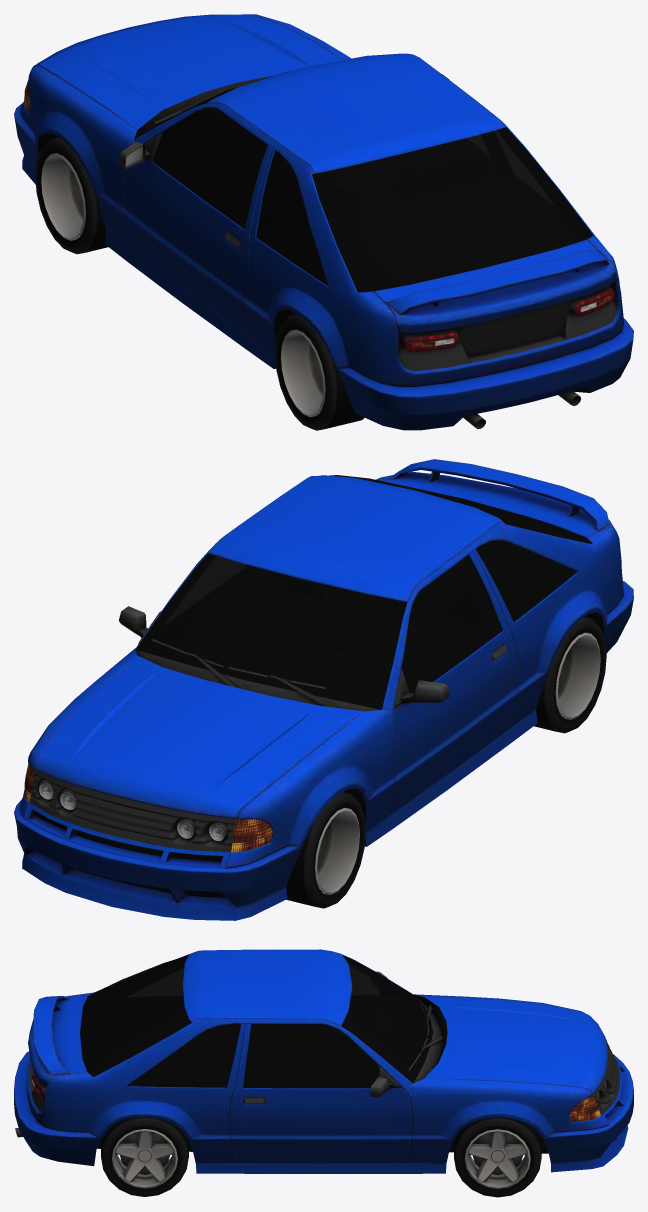
The model's file is coupe.glb.
The picture shows the model from 3 angles, top to bottom: view 1: azimuth 30°, elevation 25°; view 2: azimuth 150°, elevation 25°; view 3: azimuth 270°, elevation 25°; orthographic projection. The views are drawn at different scales.
Visible parts, largest first — view 1: Coupe_Body, wheel_1, wheel_3; view 2: Coupe_Body, wheel_3, wheel_1; view 3: Coupe_Body, wheel_2, wheel_0.
Boxes of the visible parts, x1,y1,x2,y2 form: Coupe_Body: (14,14,633,430); wheel_1: (275,314,364,430); wheel_3: (35,137,108,254); Coupe_Body: (14,459,633,920); wheel_3: (286,792,365,908); wheel_1: (534,617,606,733); Coupe_Body: (14,949,633,1173); wheel_2: (454,1117,541,1197); wheel_0: (101,1117,188,1196).
Bounding box in the file's own units: 2.12 × 1.44 × 4.77.
Materials: 4 (3 with a texture image).
